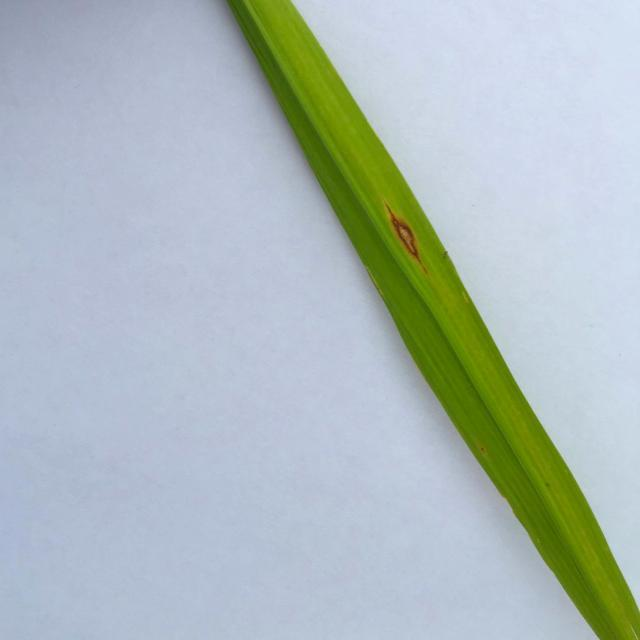Blast: (386, 221, 429, 262)
